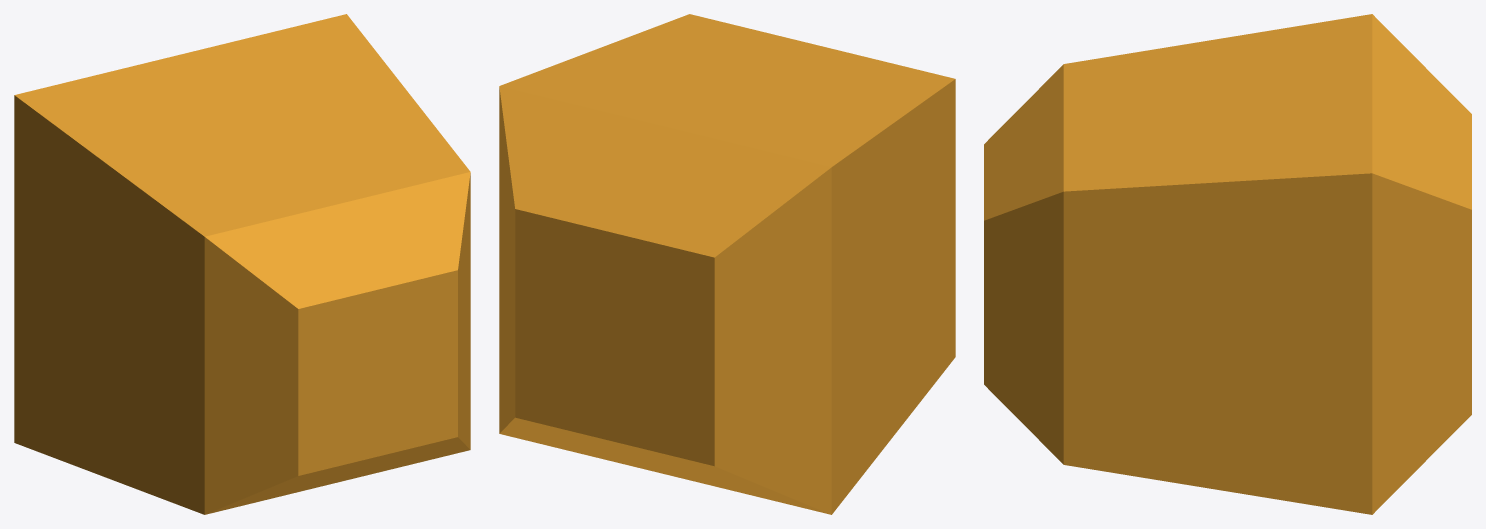
Rendered from secondtail.fbx.
3 renders of one model, left to right at view 1: azimuth 30°, elevation 25°; view 2: azimuth 150°, elevation 25°; view 3: azimuth 270°, elevation 25°, orthographic.
Parts seen in each view (by area): view 1: Cube.002; view 2: Cube.002; view 3: Cube.002.
Boxes of the visible parts, left/top/right/bottom form: Cube.002: left=14, top=14, right=470, bottom=514; Cube.002: left=499, top=14, right=955, bottom=514; Cube.002: left=984, top=14, right=1471, bottom=514.
Bounding box in the file's own units: 100 × 99.96 × 129.
